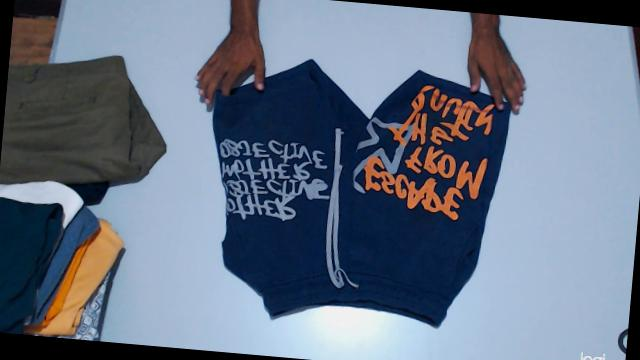new-garment: (213, 59, 512, 327)
